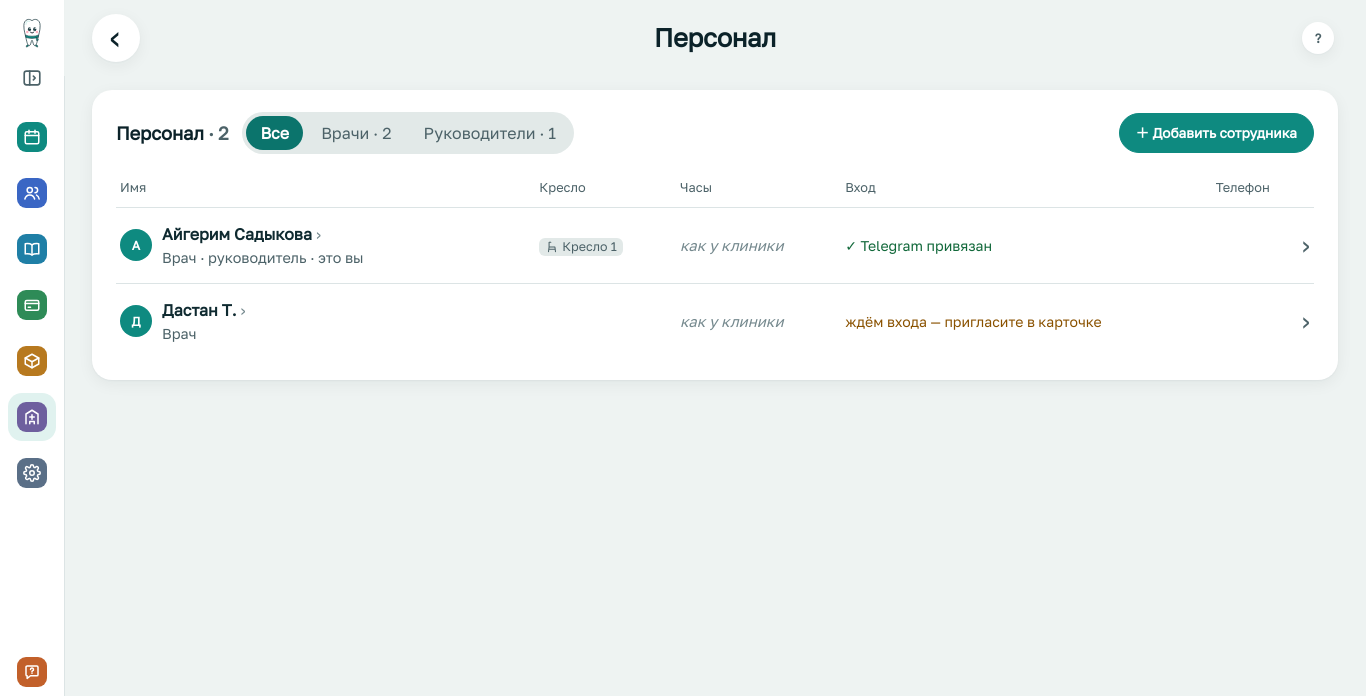
назначить кресло, когда приёмы уже пересекаются, — 409 со списком (время и врачи), руководитель переносит
Click the button "Дастан Т.".
click(204, 310)  # box [162,298,246,322]
(page scrolled)
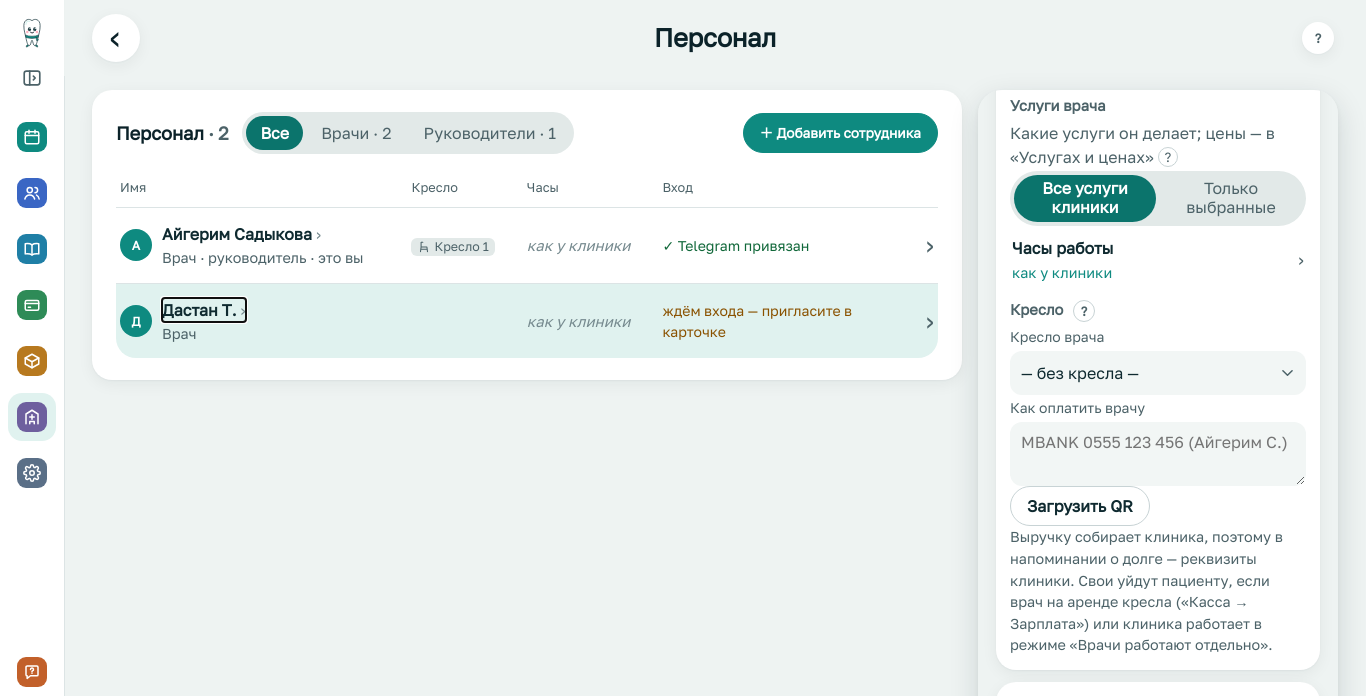
Click the dropdown named "Кресло врача".
click(1080, 373)  # box [1010,351,1306,395]
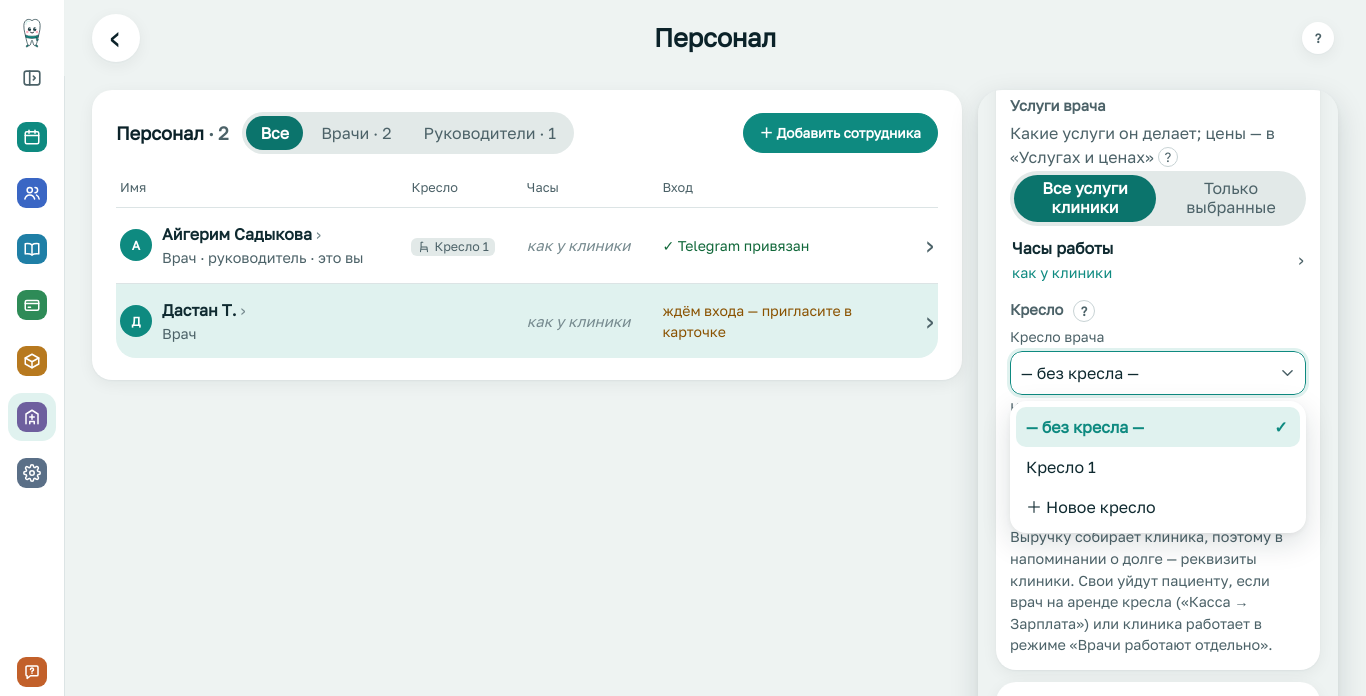
Click the option "Кресло 1".
click(1061, 467)  # box [1026,457,1096,477]
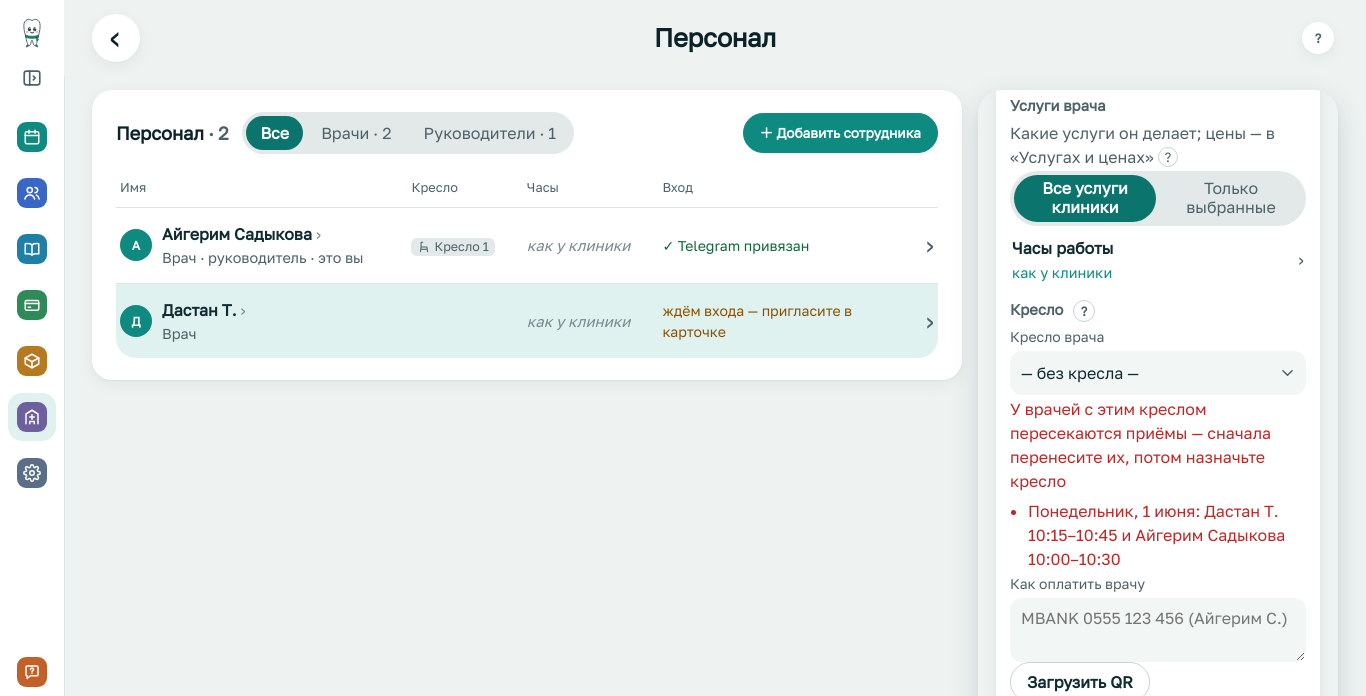
Expected: the message shows "сначала перенесите их", [1010,399,1271,491]
Expected: the list item shows "Дастан Т. 10:15–10:45 и Айгерим Садыкова 10:00–10:30", [1028,499,1306,571]
